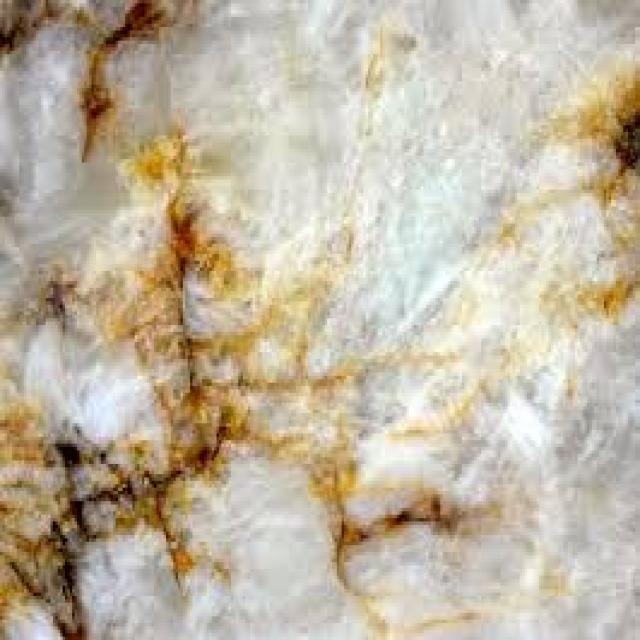Metamorphic: (7, 7, 628, 630)
